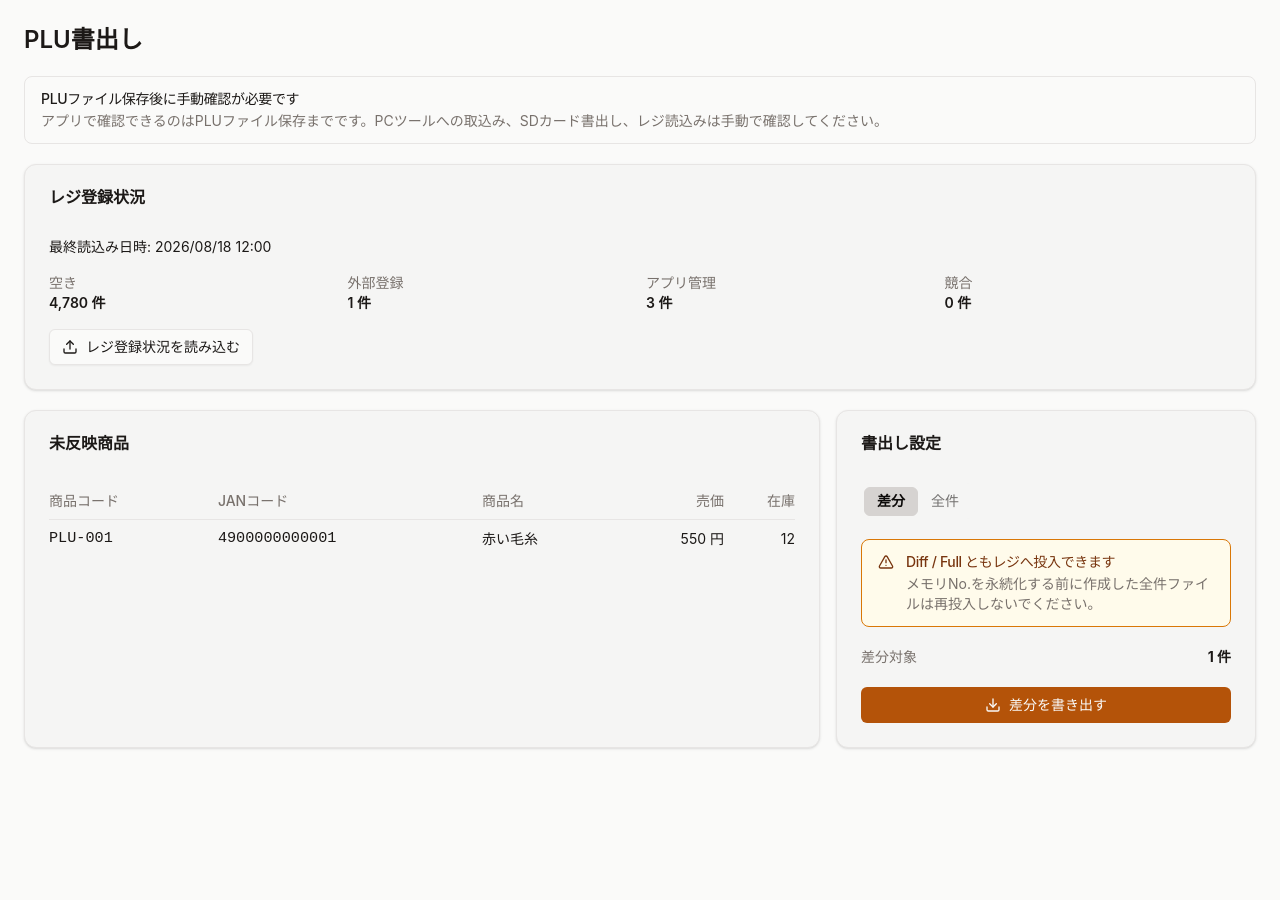
PluExportPage (UI-08 / REQ-402) › REQ-402 preserves target products when file save fails
The image size is (1280, 900).
What coordinates should you click on to do the following:
click the button "差分を書き出す"
I would click on:
 (1046, 705)
Its box is [861,687,1231,723].
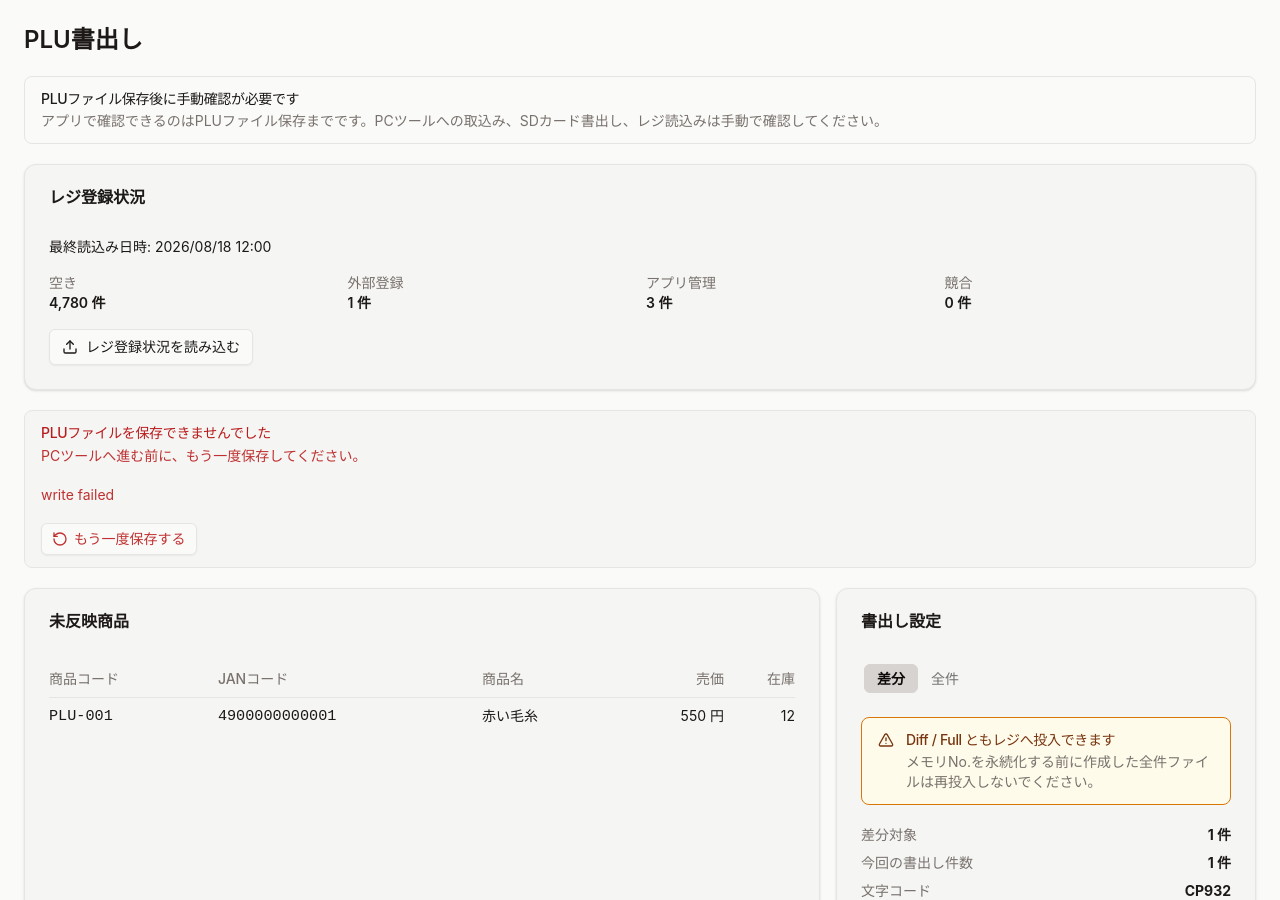
Expected: the button "もう一度保存する" is enabled, [41,522,197,554]
Expected: the text "PLUファイルを保存できませんでした" is shown, [41,424,271,441]
Expected: the text "PCツールへ進む前に、もう一度保存してください。" is shown, [41,445,366,468]
